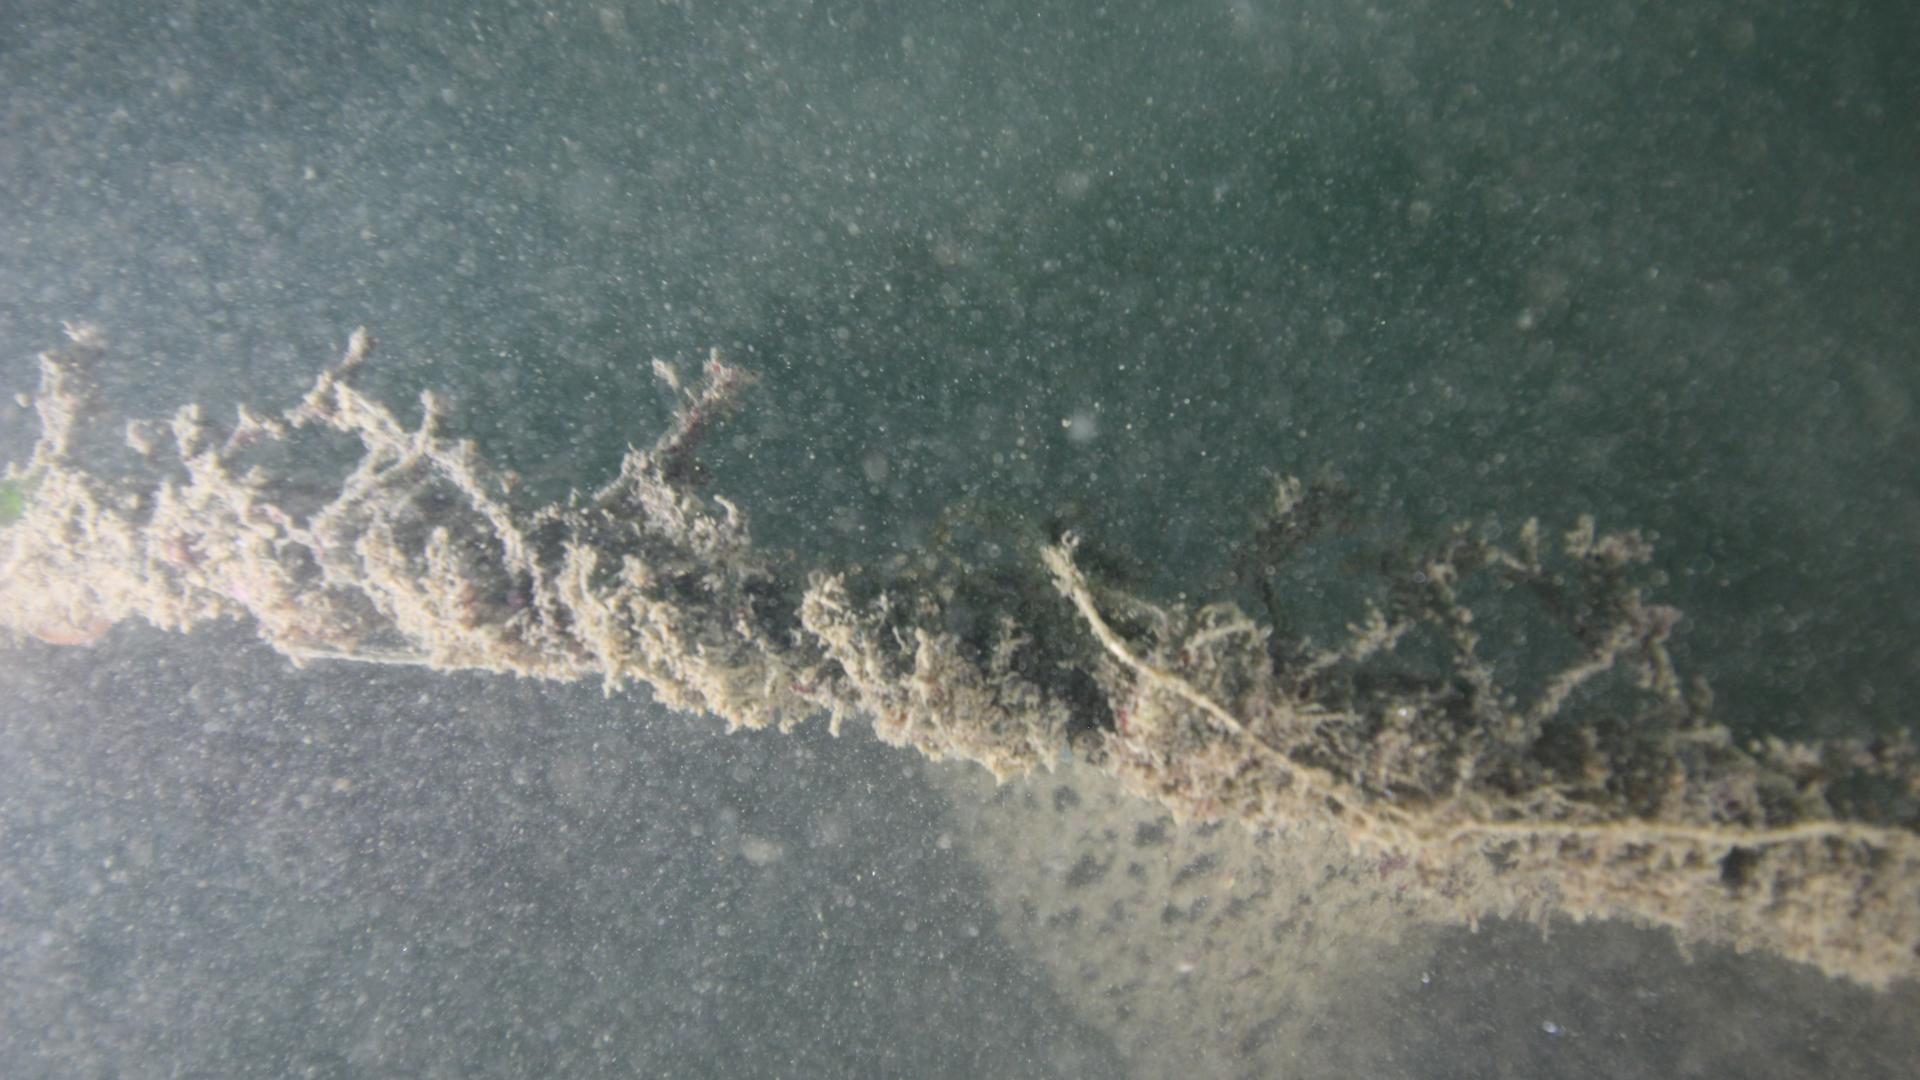rope: (0, 483, 1919, 971)
